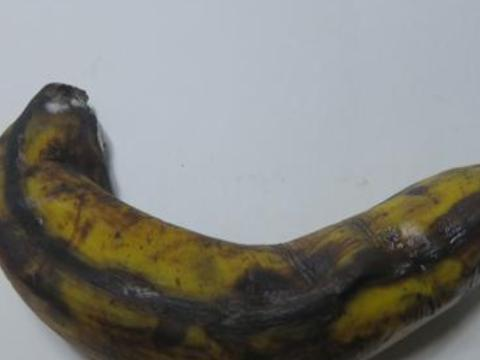overripe: (0, 73, 479, 359)
rotten: (0, 65, 160, 191)
